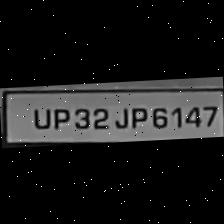1: (168, 103, 183, 130)
2: (88, 103, 110, 130)
3: (70, 103, 92, 130)
4: (181, 104, 202, 128)
6: (146, 104, 170, 130)
7: (200, 102, 218, 128)
J: (111, 102, 129, 129)
P: (48, 104, 70, 130), (127, 104, 148, 130)
U: (28, 104, 50, 130)
